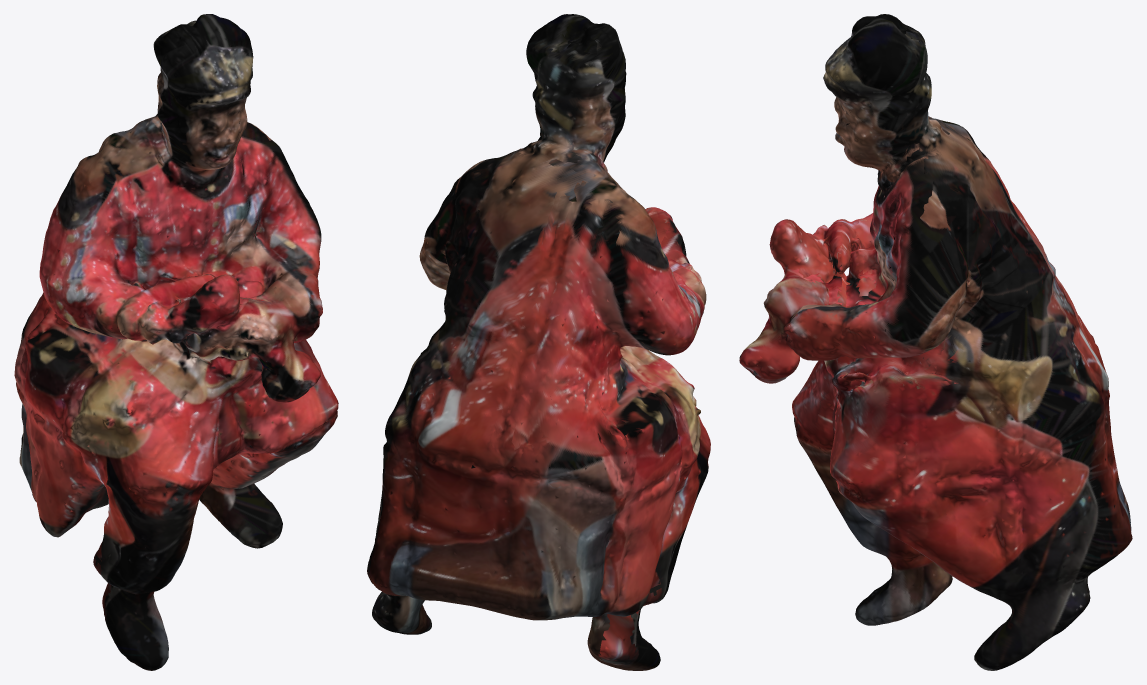
The model's file is antique_past_glory_master.glb.
3 renders of one model, left to right at view 1: azimuth 30°, elevation 25°; view 2: azimuth 150°, elevation 25°; view 3: azimuth 270°, elevation 25°, orthographic.
Parts seen in each view (by area): view 1: RoyalDoulton_PastGlory_Master; view 2: RoyalDoulton_PastGlory_Master; view 3: RoyalDoulton_PastGlory_Master.
Boxes of the visible parts, <box> form: RoyalDoulton_PastGlory_Master: <box>14,14,338,670</box>; RoyalDoulton_PastGlory_Master: <box>367,14,710,670</box>; RoyalDoulton_PastGlory_Master: <box>739,14,1132,670</box>.
Size of the model in its own units: 0.0872 by 0.1947 by 0.1096.
1 material, 1 textured.
